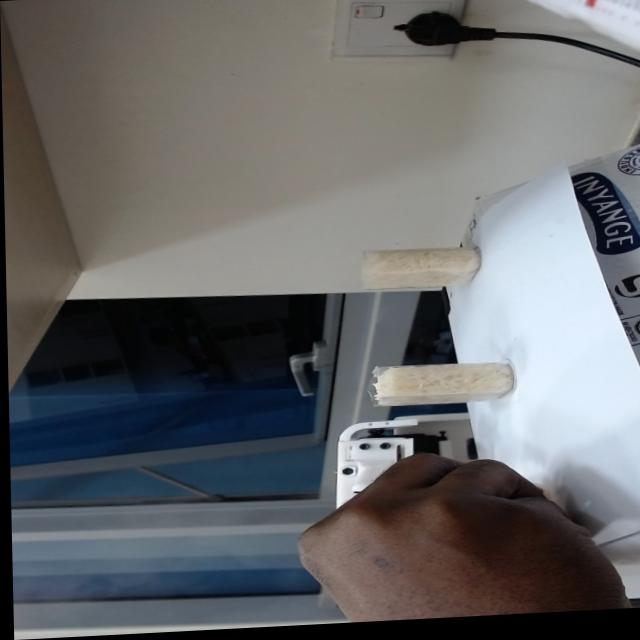raw_rice: (373, 366, 513, 409), (357, 252, 479, 295)
